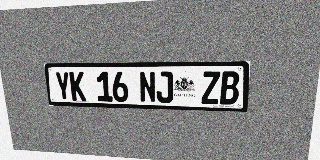1: (96, 72, 113, 102)
6: (111, 72, 129, 102)
B: (220, 71, 240, 105)
J: (156, 71, 173, 103)
K: (69, 72, 86, 101)
N: (139, 71, 156, 103)
Y: (54, 72, 72, 101)
Z: (201, 71, 220, 104)
